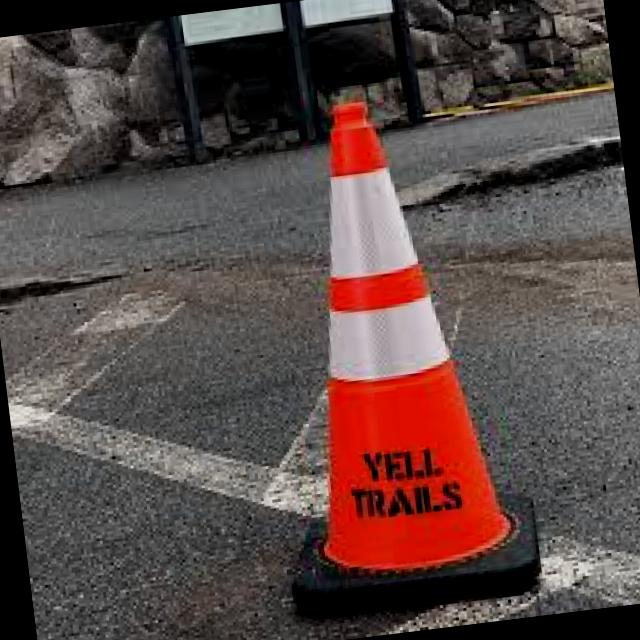cone: (248, 70, 550, 616)
